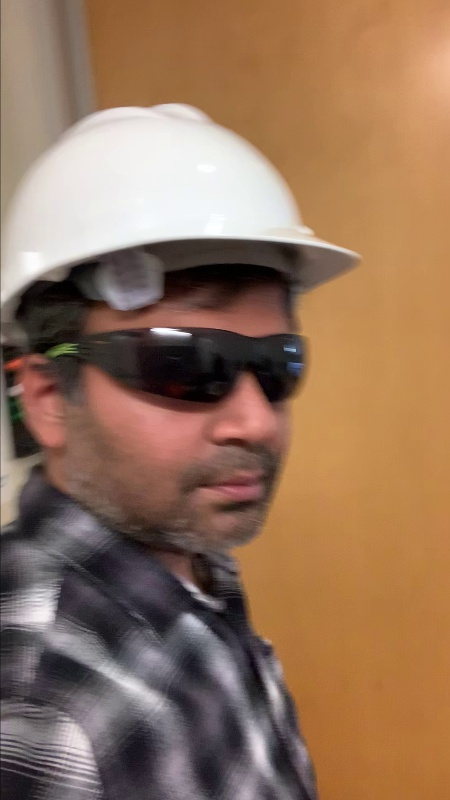glasses: (86, 326, 314, 405)
helmet: (17, 96, 330, 247)
